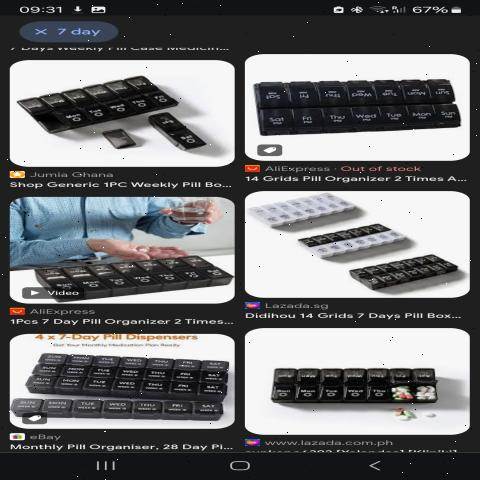PillBox: (20, 334, 246, 402), (253, 73, 468, 140), (258, 357, 462, 416), (16, 248, 234, 300), (20, 73, 182, 132), (326, 250, 464, 293)
